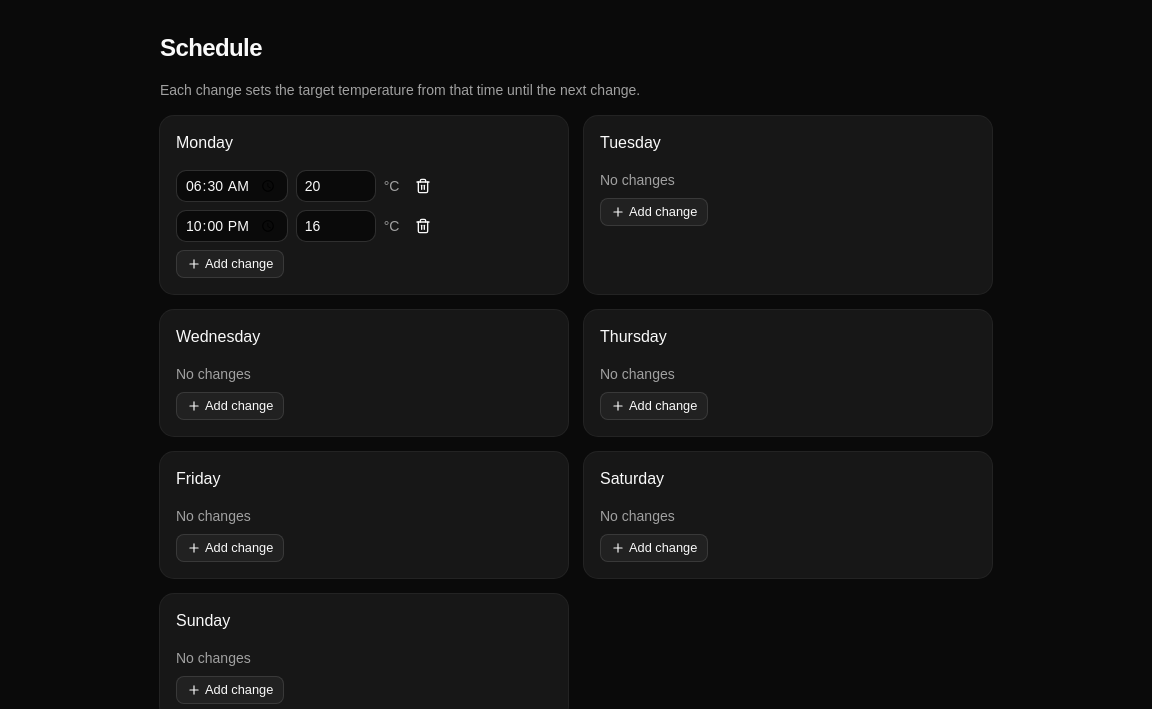
it: ScheduleEditor › caps a day at 8 changes
Check: the time field named "Monday change 1 time" is shown, box [176, 170, 288, 202]
Click the button with aria-label "Add change on Monday" at (230, 264), box [176, 250, 284, 278]
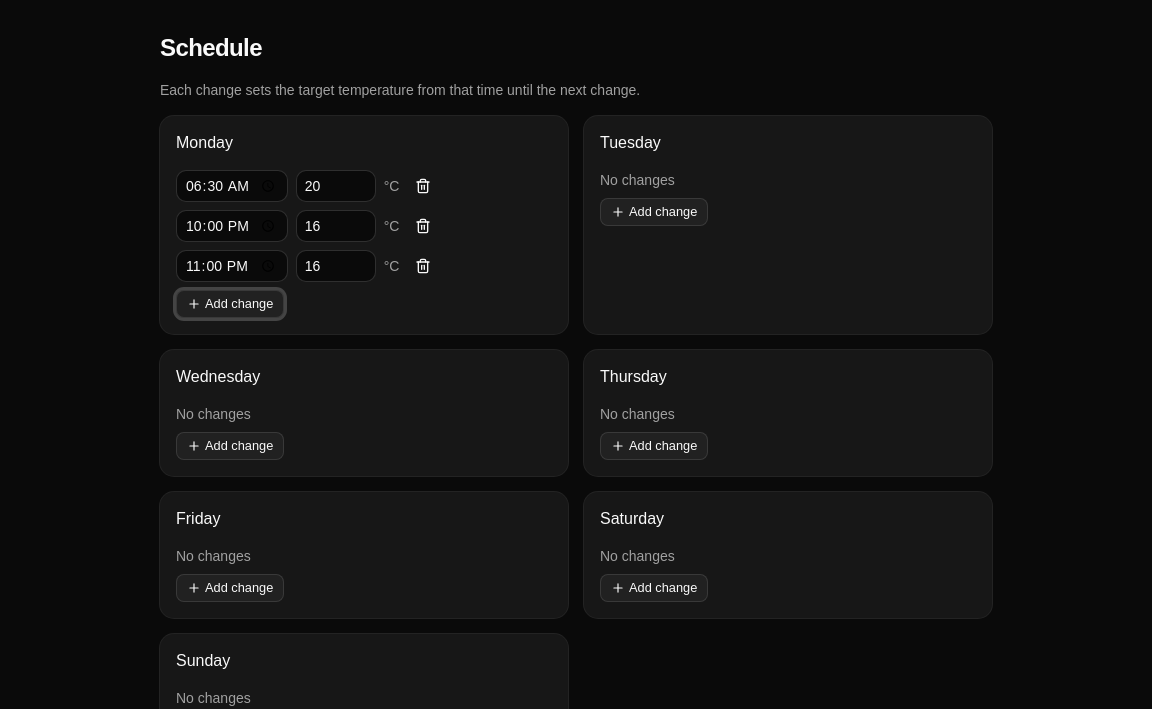
Click the button with aria-label "Add change on Monday" at (230, 304), box [176, 290, 284, 318]
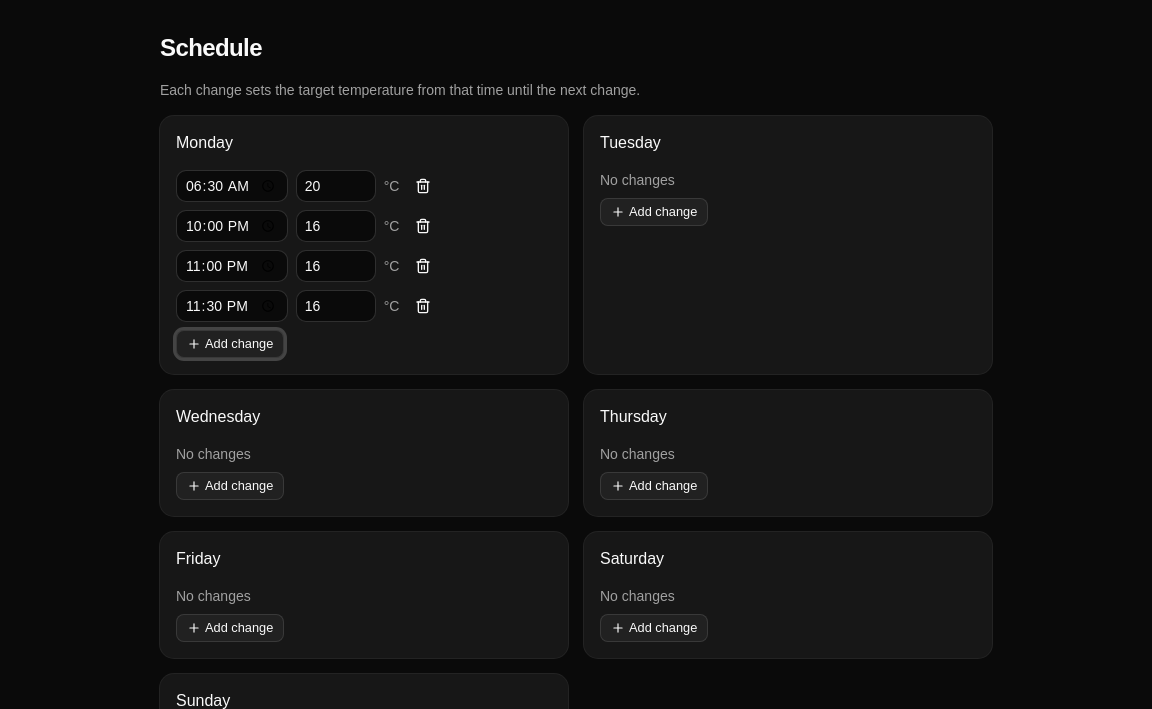
Click the button with aria-label "Add change on Monday" at (230, 344), box [176, 330, 284, 358]
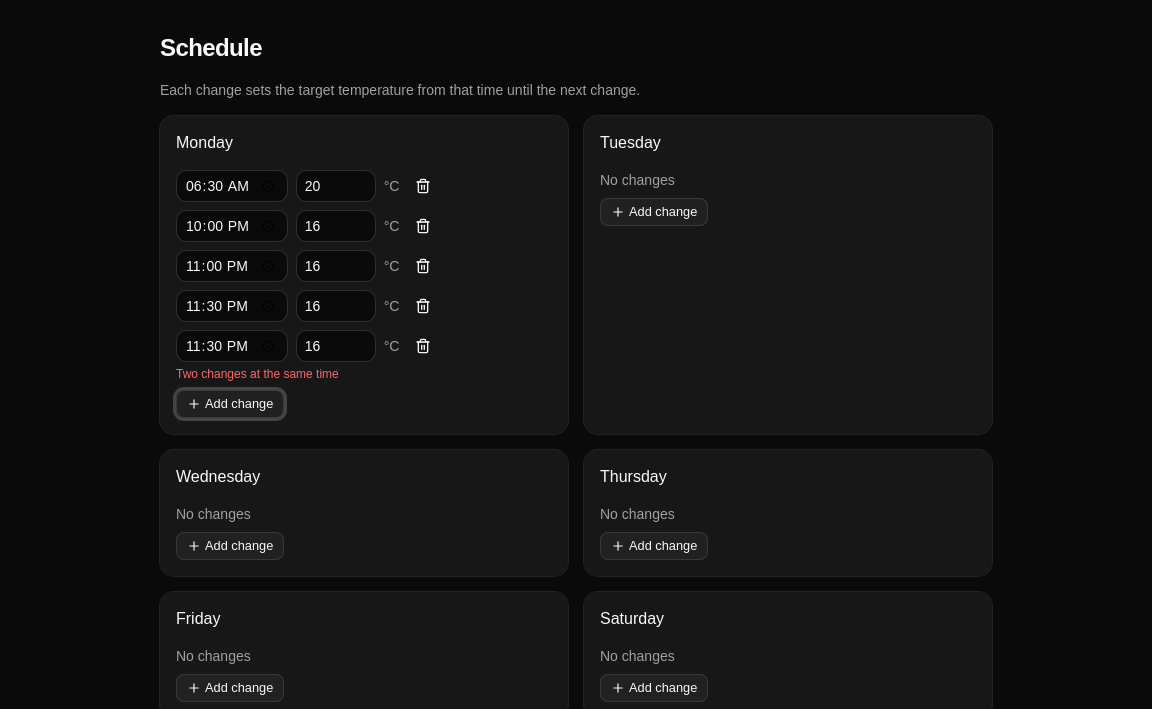
Click the button with aria-label "Add change on Monday" at (230, 404), box [176, 390, 284, 418]
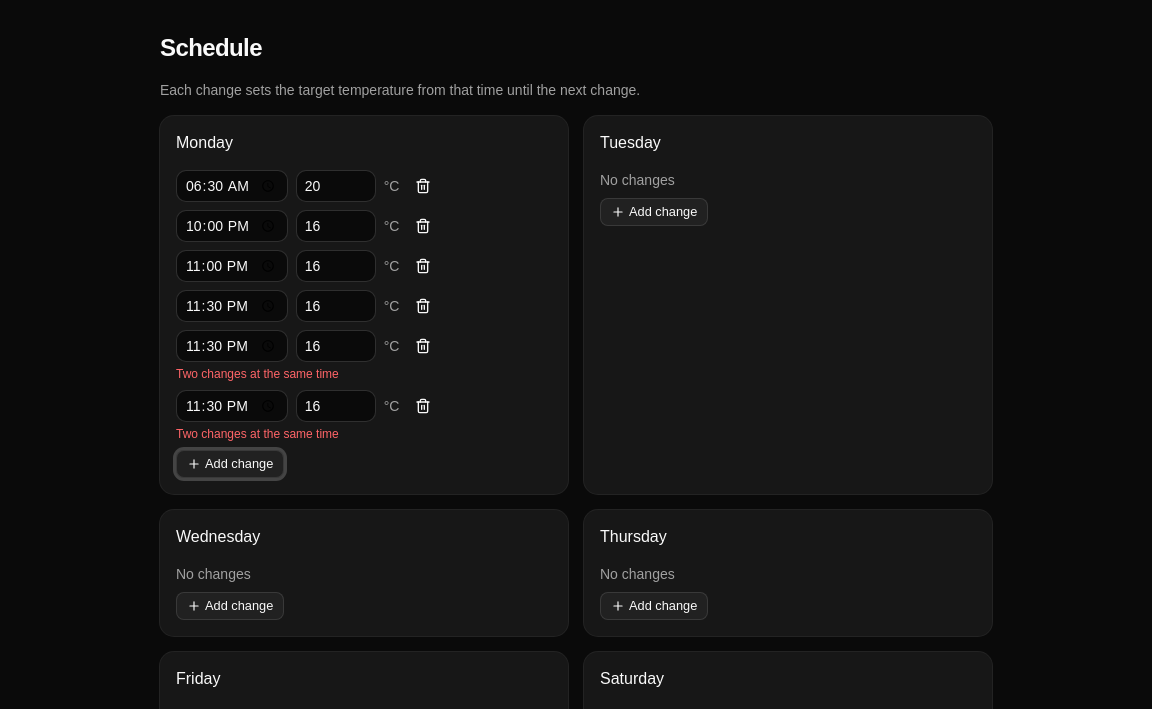
Click the button with aria-label "Add change on Monday" at (230, 464), box [176, 450, 284, 478]
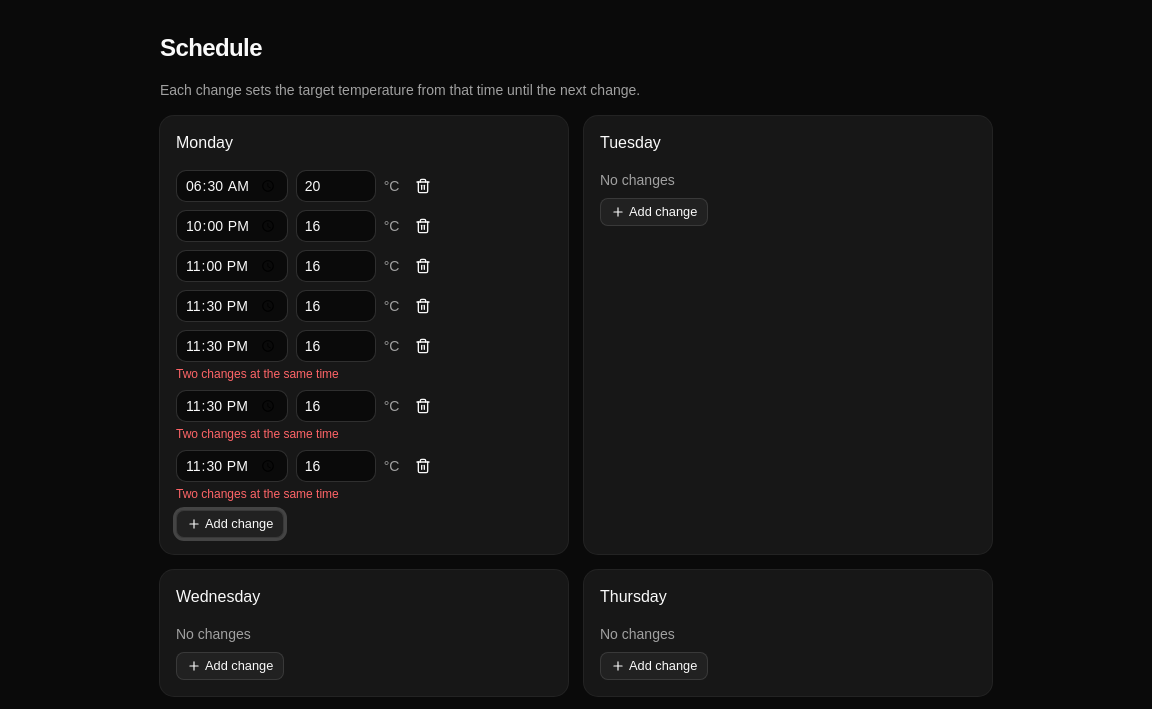
Click the button with aria-label "Add change on Monday" at (230, 524), box [176, 510, 284, 538]
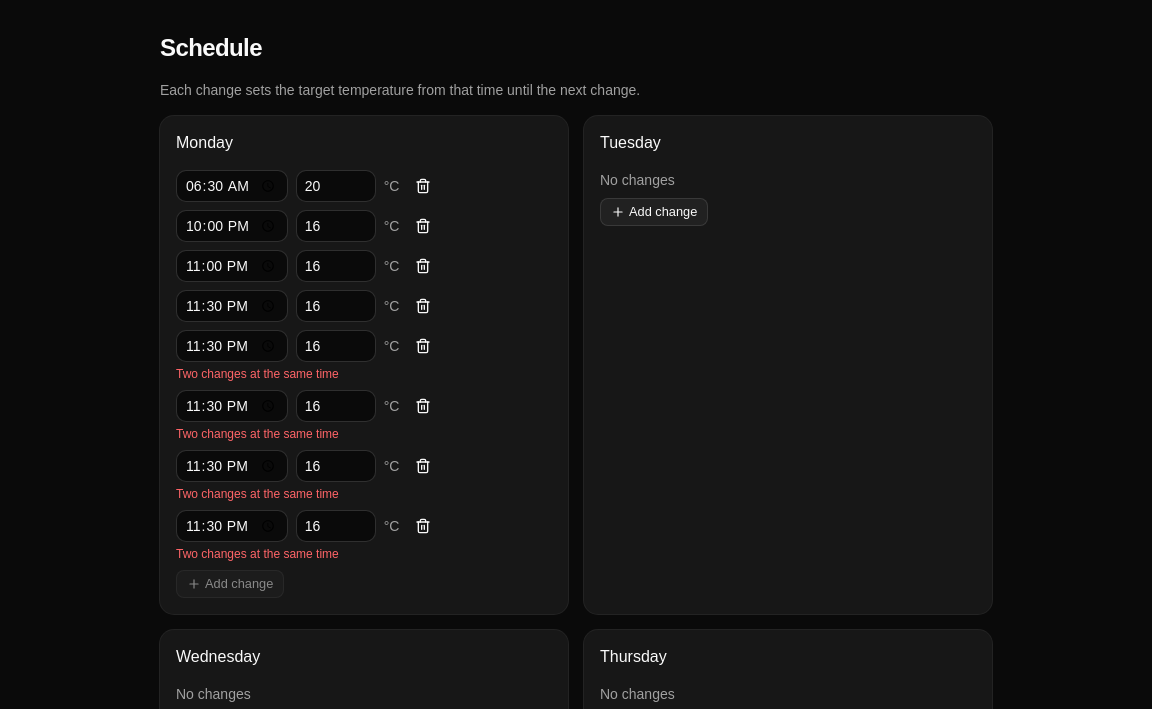
Check: the button with aria-label "Add change on Monday" is disabled, box [176, 570, 284, 598]
Check: the number of number fields named "temperature" is 8
